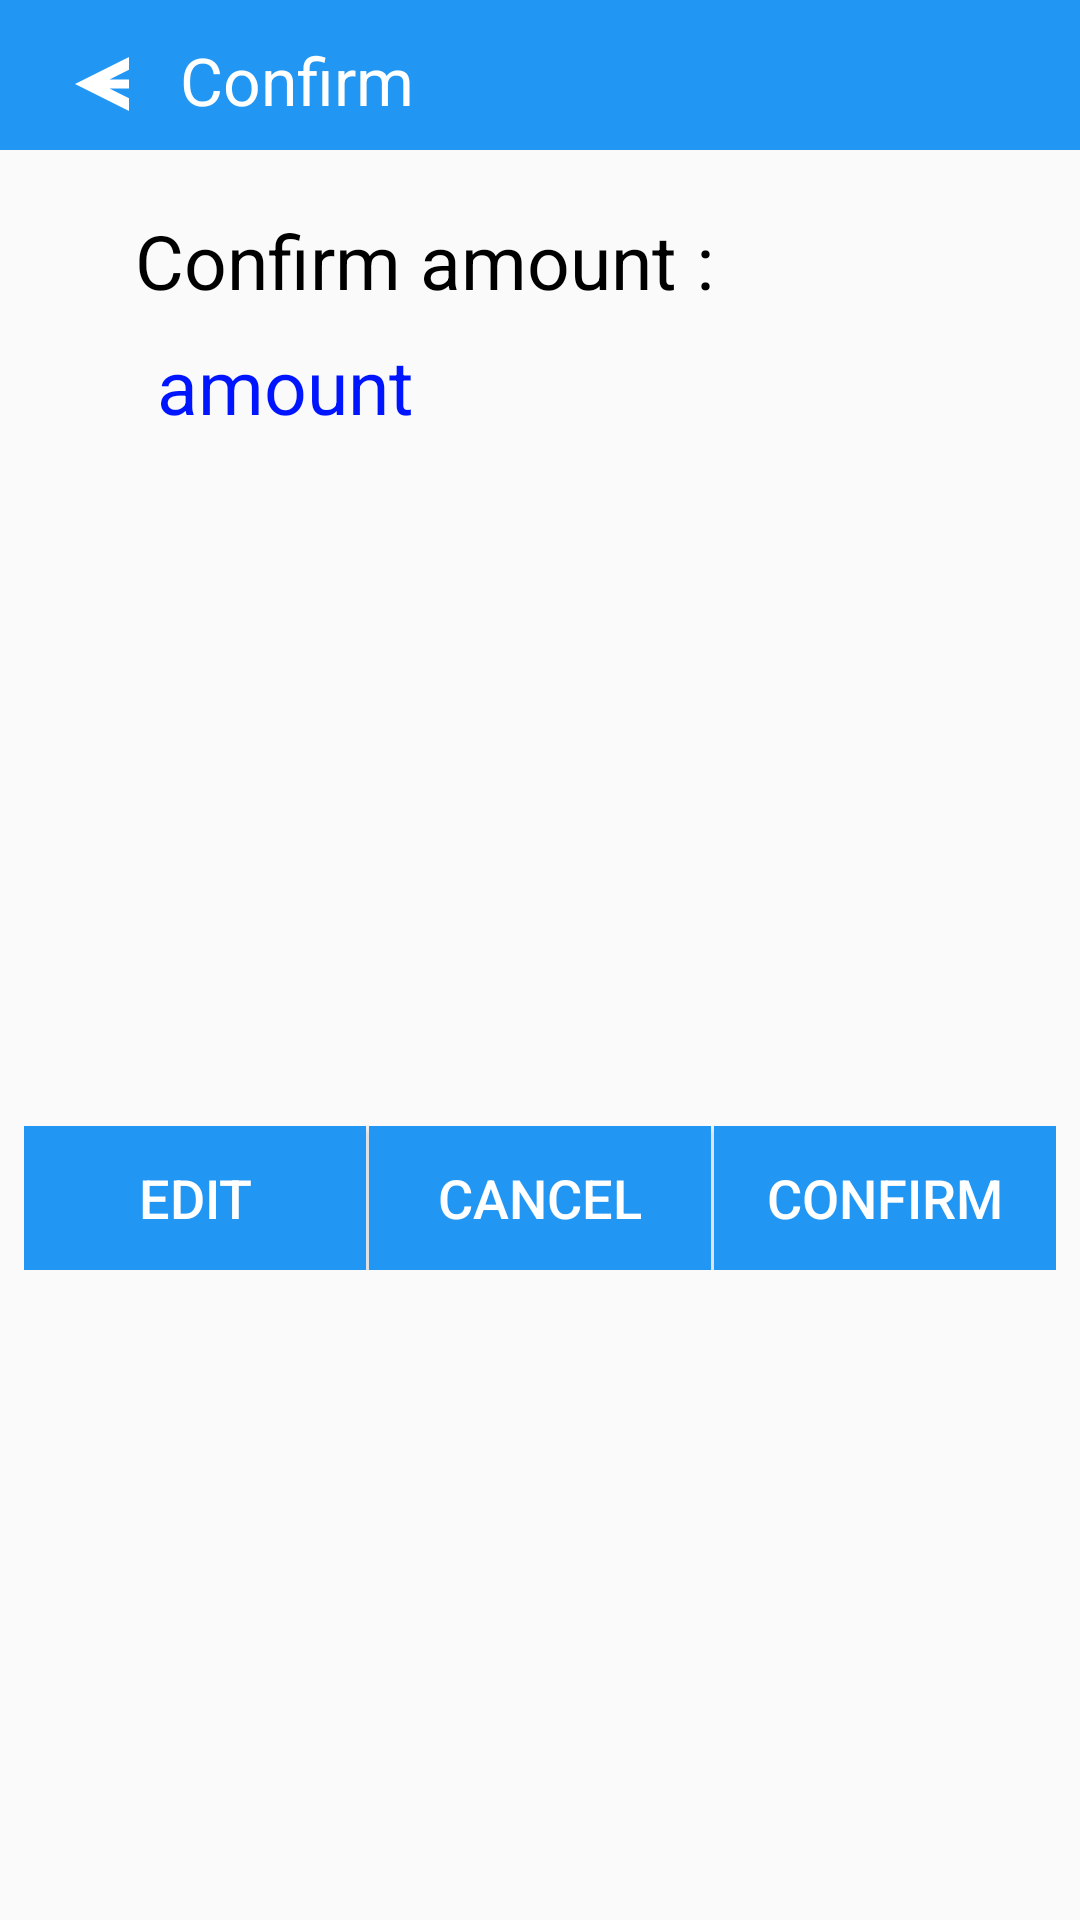

Point at icon controls on the screen. Image size 1080 x 1920, points as point (x, y).
arrow back: point (102, 84)
